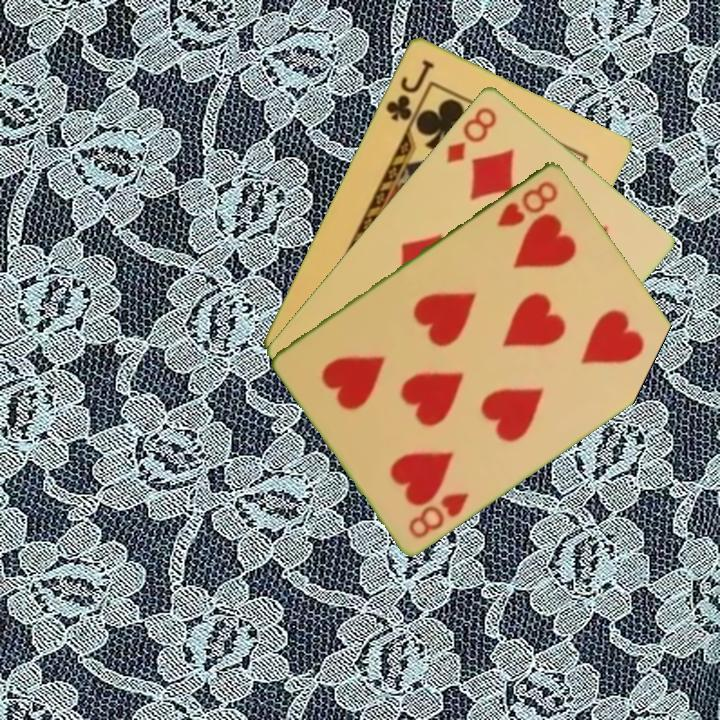8d: (442, 102, 500, 166)
8h: (494, 176, 561, 230), (405, 488, 472, 541)
Jc: (382, 55, 437, 124)
